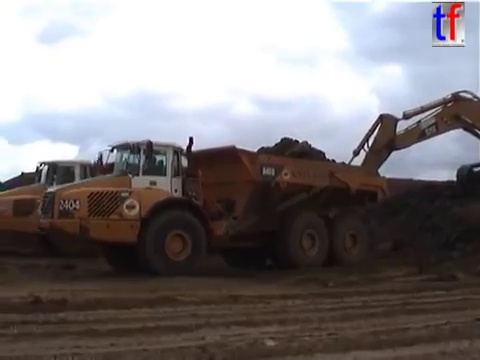excavator: (324, 87, 480, 211)
truck: (33, 133, 394, 276), (1, 149, 278, 261)
